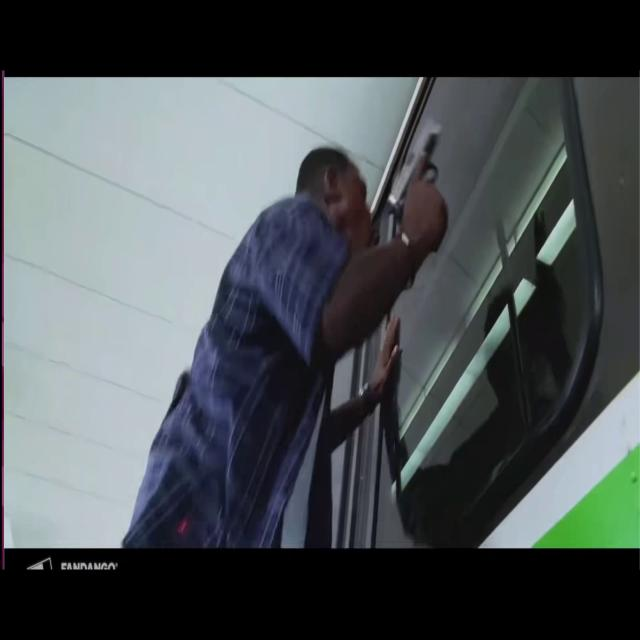weapons: (383, 108, 452, 262)
